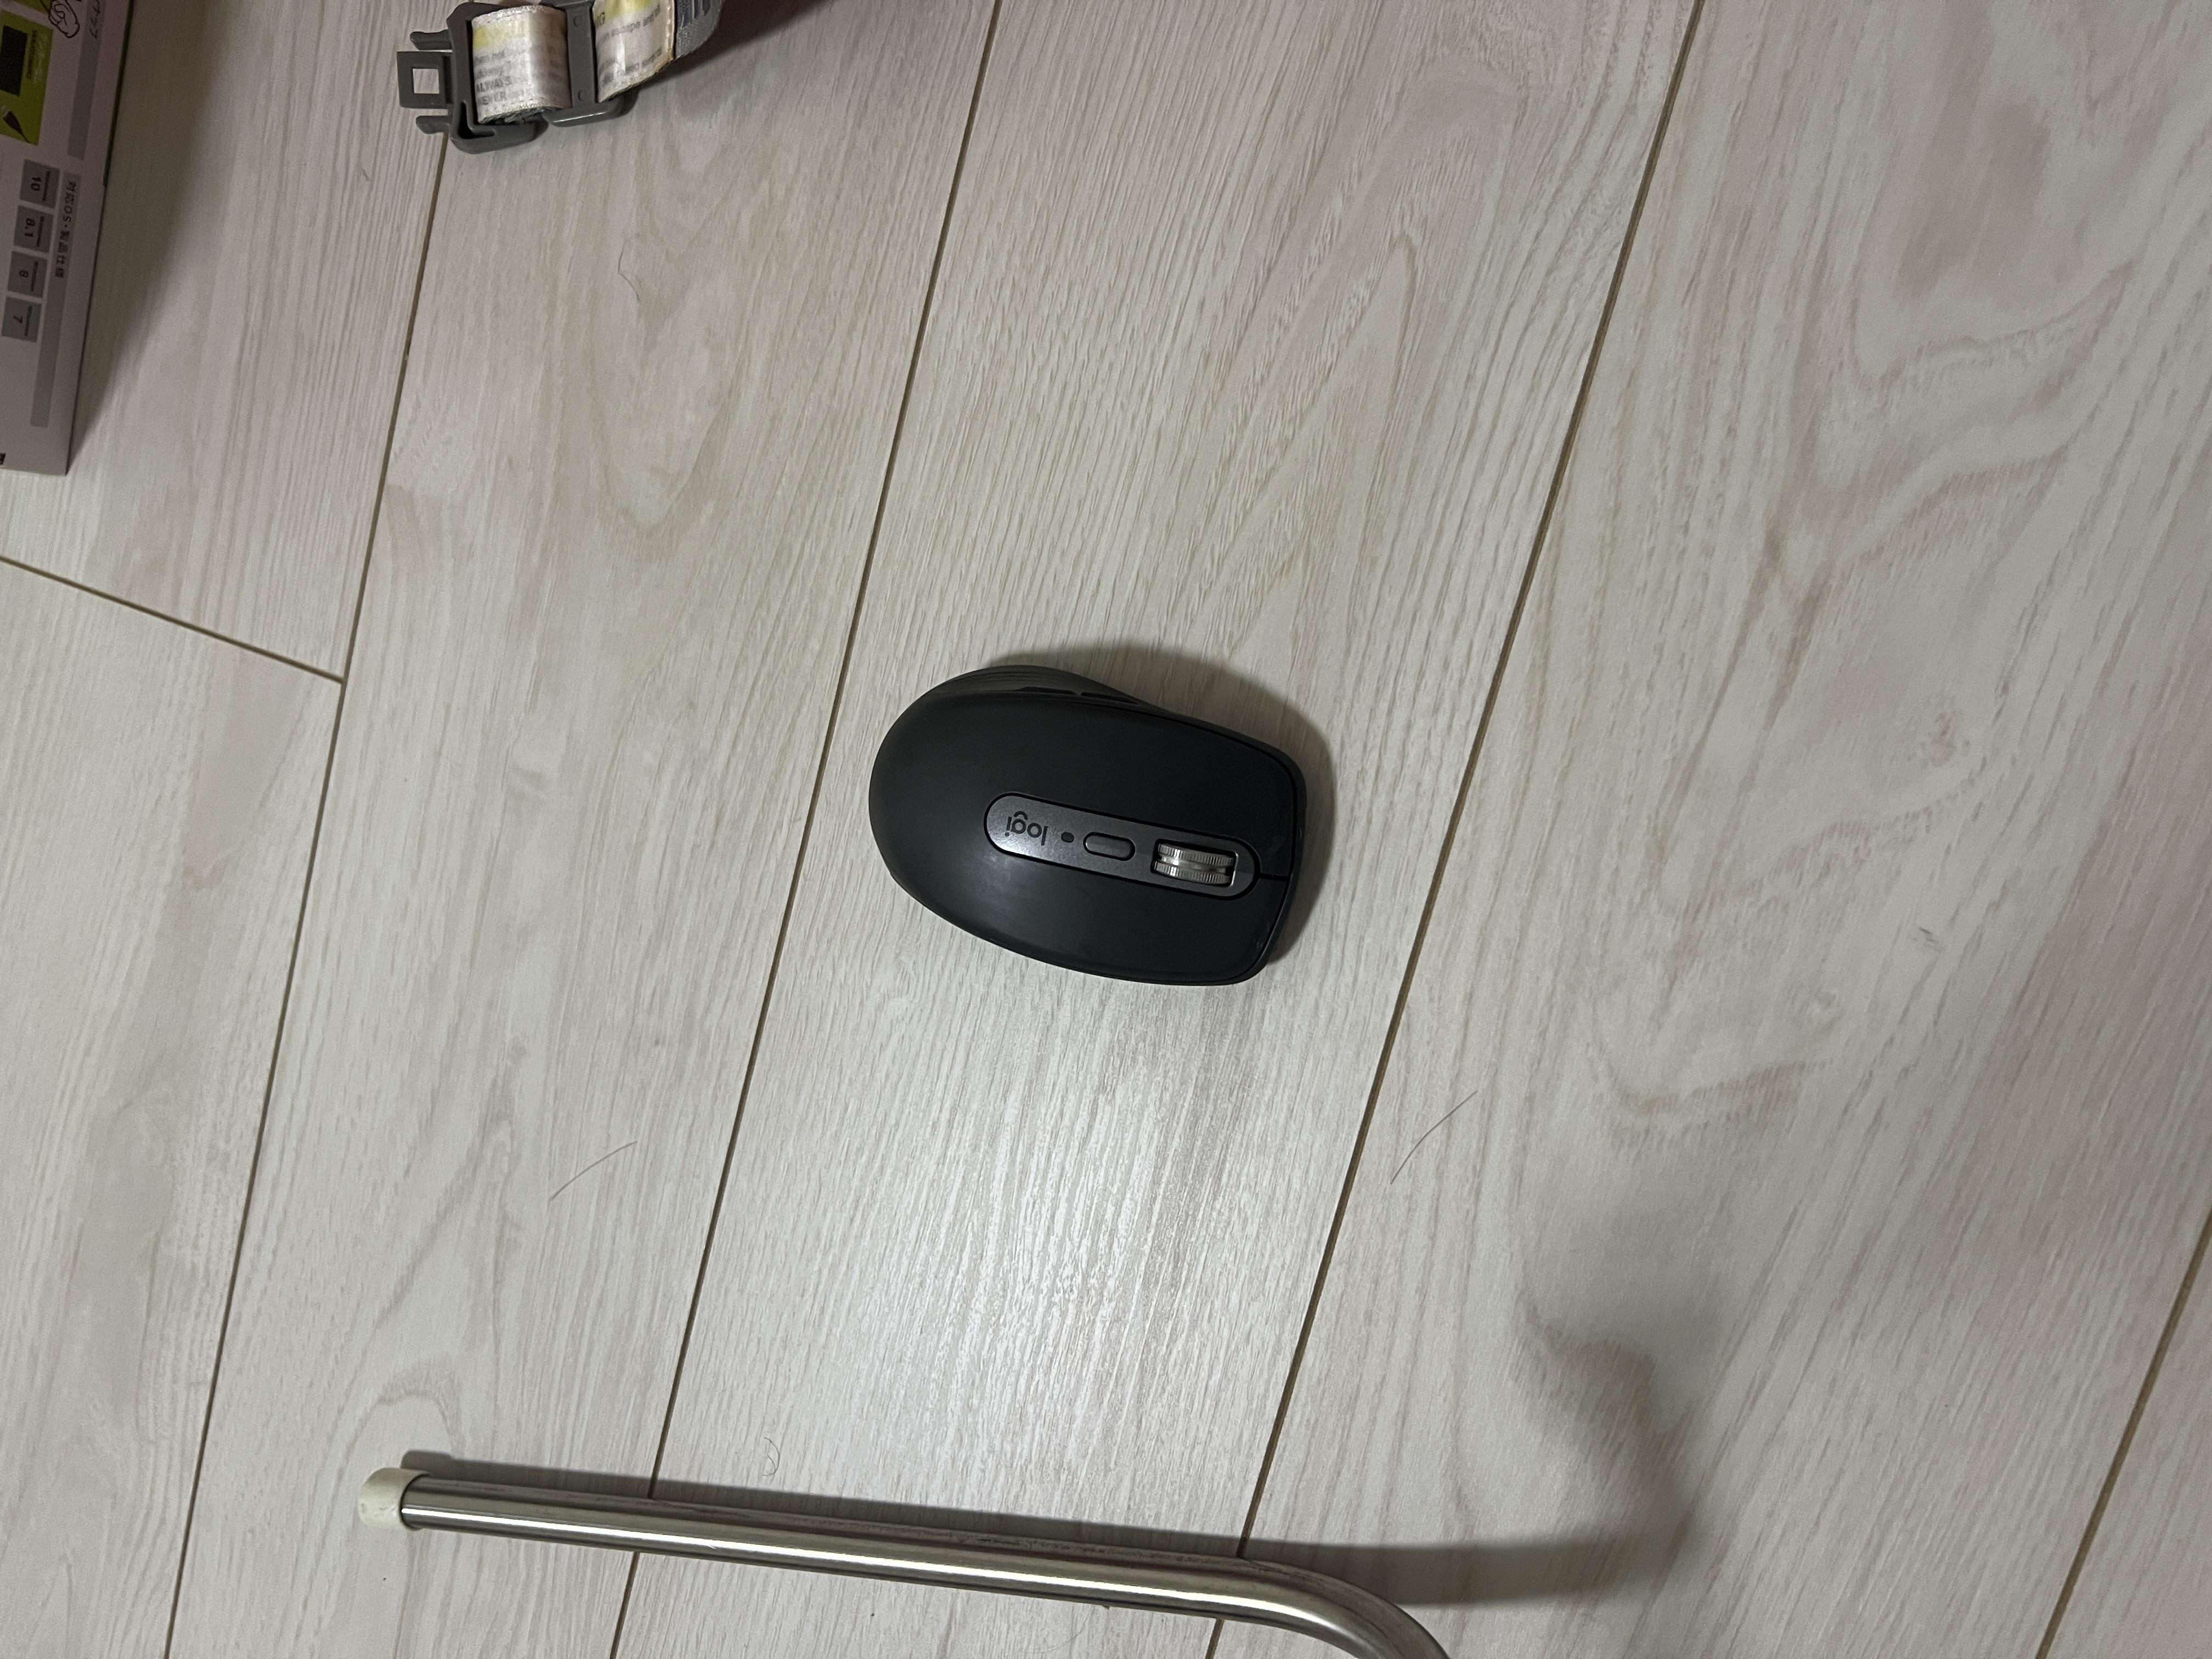mouse: (914, 634, 1325, 965)
